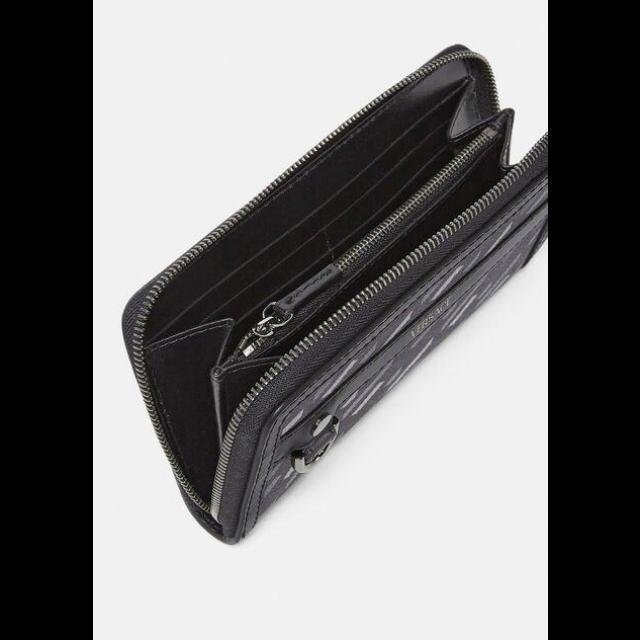wallet: (118, 39, 546, 554)
